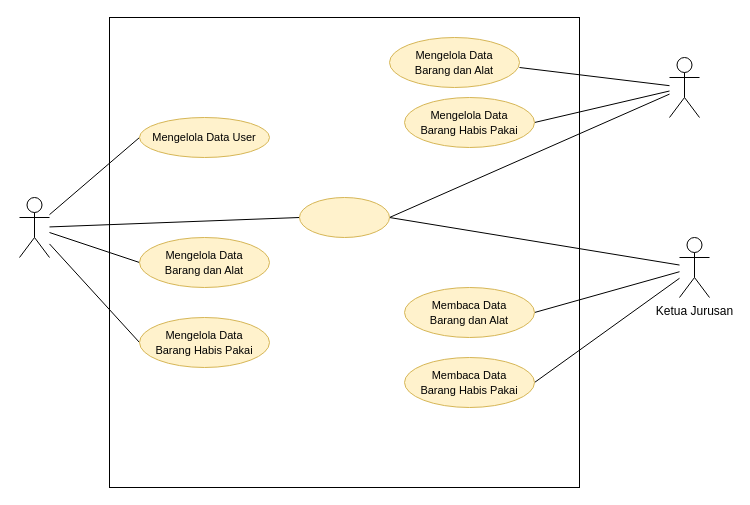
Image size: 750x505. Some labels were removed from this diagram. Here are the shapes that lost their labels. From the top down, the centre of each, then its label:
the point at 684,87: Operator
the point at 34,227: Admin
the point at 344,217: Login
